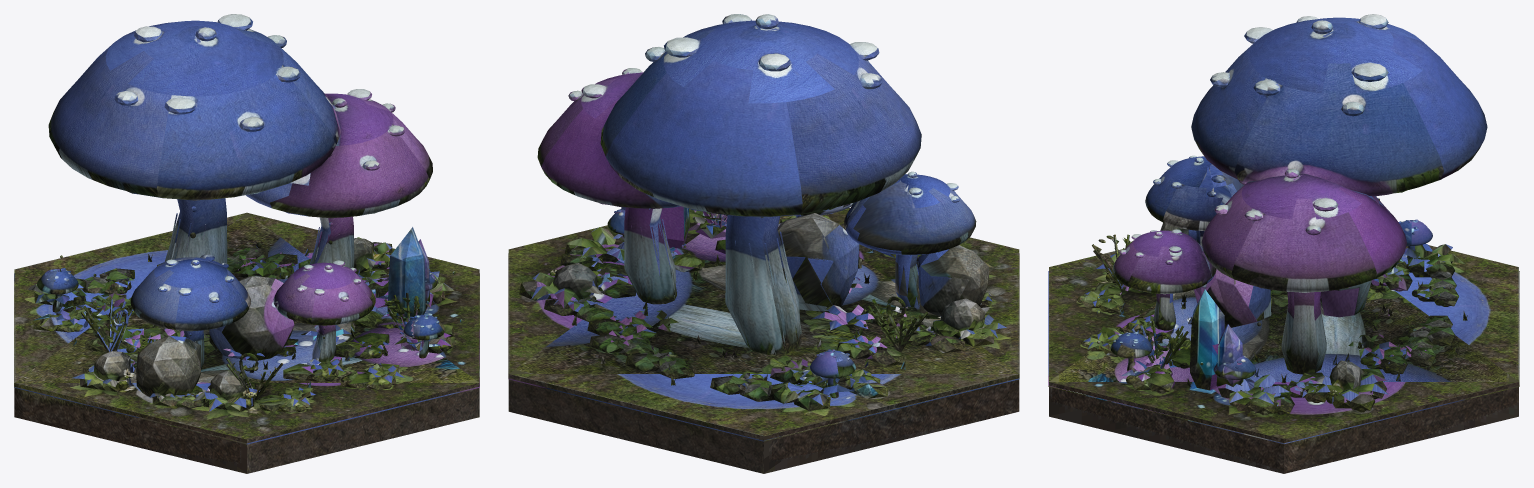
File: hex_glowing_mushrooms.glb
3 renders of one model, left to right at view 1: azimuth 30°, elevation 25°; view 2: azimuth 150°, elevation 25°; view 3: azimuth 270°, elevation 25°, orthographic. The views are drawn at different scales.
Visible parts, largest first — view 1: Broad faceted mushroom cap.001, Standard hex meadow top.001, Broad faceted mushroom cap.003, Standard hex stone foundation.001, Broad faceted mushroom cap.004, Broad faceted mushroom cap.005, Angular mossy forest boulder.001, Standard hex earth layer.001, Angular mossy forest boulder.002, Curving luminous mushroom stem.001, Faceted magical crystal.001, Curving luminous mushroom stem.003 (+7 smaller); view 2: Broad faceted mushroom cap.001, Standard hex meadow top.001, Standard hex stone foundation.001, Curving luminous mushroom stem.001, Broad faceted mushroom cap.004, Broad faceted mushroom cap.003, Angular mossy forest boulder.001, Standard hex earth layer.001, Curving luminous mushroom stem.003, Angular mossy forest boulder.002, Curving luminous mushroom stem.004, Angular mossy forest boulder.004 (+13 smaller); view 3: Standard hex meadow top.001, Broad faceted mushroom cap.001, Broad faceted mushroom cap.003, Standard hex stone foundation.001, Broad faceted mushroom cap.005, Broad faceted mushroom cap.004, Standard hex earth layer.001, Curving luminous mushroom stem.003, Faceted magical crystal.001, Angular mossy forest boulder.001, Curving luminous mushroom stem.001, Faceted magical crystal.003 (+7 smaller).
Boxes of the visible parts, left/top/right/bottom form: Broad faceted mushroom cap.001: left=48, top=20, right=340, bottom=199; Standard hex meadow top.001: left=14, top=212, right=479, bottom=443; Broad faceted mushroom cap.003: left=246, top=93, right=432, bottom=217; Standard hex stone foundation.001: left=14, top=395, right=479, bottom=473; Broad faceted mushroom cap.004: left=130, top=257, right=250, bottom=330; Broad faceted mushroom cap.005: left=273, top=262, right=375, bottom=325; Angular mossy forest boulder.001: left=209, top=276, right=294, bottom=360; Standard hex earth layer.001: left=14, top=388, right=479, bottom=451; Angular mossy forest boulder.002: left=136, top=335, right=200, bottom=397; Curving luminous mushroom stem.001: left=164, top=198, right=227, bottom=268; Faceted magical crystal.001: left=387, top=227, right=425, bottom=321; Curving luminous mushroom stem.003: left=310, top=216, right=354, bottom=268; Broad faceted mushroom cap.001: left=600, top=20, right=921, bottom=216; Standard hex meadow top.001: left=508, top=208, right=1019, bottom=440; Standard hex stone foundation.001: left=508, top=387, right=1019, bottom=473; Curving luminous mushroom stem.001: left=725, top=215, right=801, bottom=354; Broad faceted mushroom cap.004: left=843, top=174, right=976, bottom=255; Broad faceted mushroom cap.003: left=537, top=72, right=680, bottom=208; Angular mossy forest boulder.001: left=777, top=213, right=859, bottom=311; Standard hex earth layer.001: left=508, top=378, right=1019, bottom=449; Curving luminous mushroom stem.003: left=624, top=207, right=676, bottom=304; Angular mossy forest boulder.002: left=916, top=245, right=988, bottom=316; Curving luminous mushroom stem.004: left=895, top=254, right=925, bottom=311; Angular mossy forest boulder.004: left=553, top=263, right=597, bottom=300; Standard hex meadow top.001: left=1049, top=245, right=1518, bottom=442; Broad faceted mushroom cap.001: left=1191, top=17, right=1487, bottom=196; Broad faceted mushroom cap.003: left=1201, top=173, right=1406, bottom=292; Standard hex stone foundation.001: left=1049, top=394, right=1518, bottom=473; Broad faceted mushroom cap.005: left=1113, top=230, right=1216, bottom=293; Broad faceted mushroom cap.004: left=1145, top=156, right=1243, bottom=230; Standard hex earth layer.001: left=1049, top=387, right=1518, bottom=451; Curving luminous mushroom stem.003: left=1281, top=292, right=1326, bottom=374; Faceted magical crystal.001: left=1190, top=289, right=1224, bottom=390; Angular mossy forest boulder.001: left=1194, top=269, right=1271, bottom=327; Curving luminous mushroom stem.001: left=1320, top=280, right=1371, bottom=317; Faceted magical crystal.003: left=1216, top=324, right=1243, bottom=398.
Size of the model in its own units: 5.11 by 3.39 by 4.42.
Materials: 5 (5 with a texture image).
